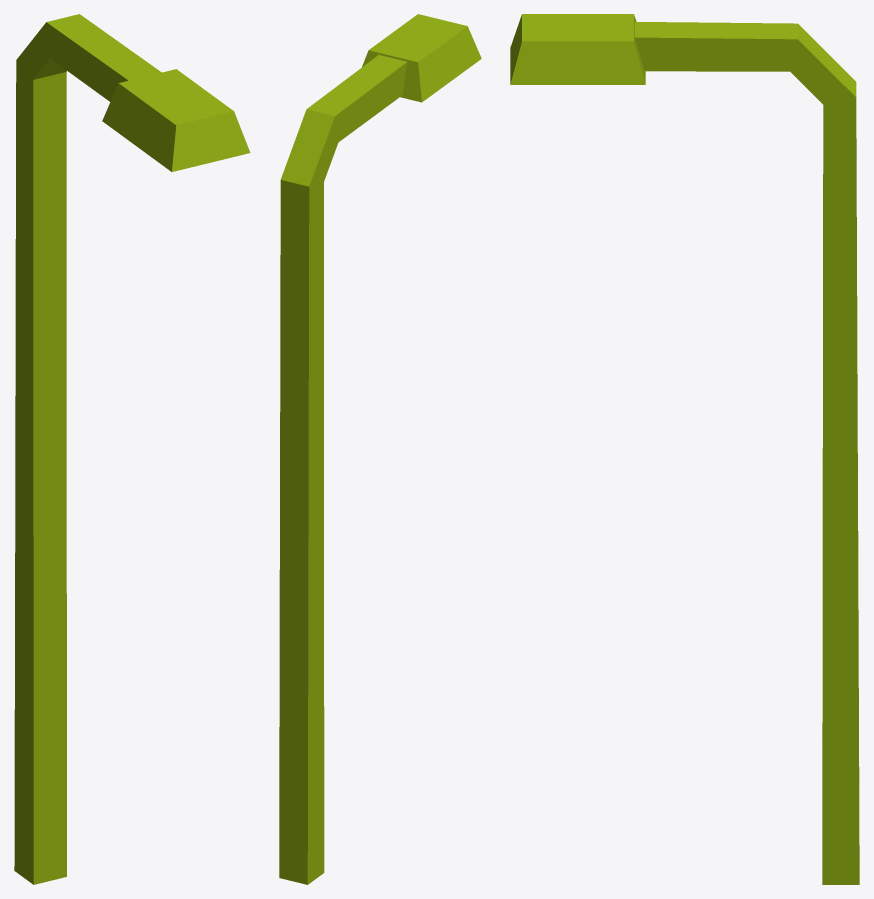
File: lamp.obj
3 views of the same model, side by side, from view 1: azimuth 30°, elevation 25°; view 2: azimuth 150°, elevation 25°; view 3: azimuth 270°, elevation 25° (orthographic). The views are drawn at different scales.
Visible parts, largest first — view 1: Cube; view 2: Cube; view 3: Cube.
Part boxes in pixels (x1,y1,x2,y2): Cube: (14, 14, 250, 884); Cube: (279, 14, 481, 884); Cube: (510, 14, 859, 884).
Size of the model in its own units: 0.1307 by 1.39 by 0.5182.
